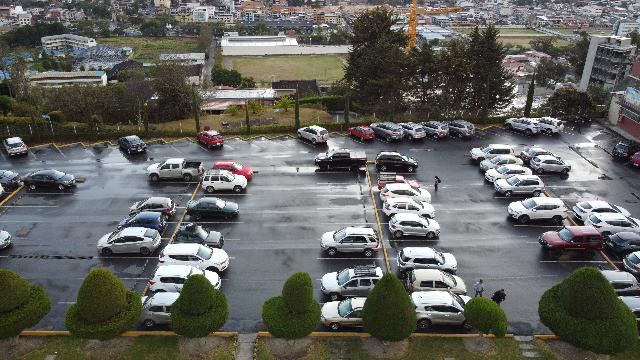Vehiculo: (409, 290, 473, 330), (321, 265, 384, 301), (538, 225, 604, 259), (149, 265, 221, 293), (159, 244, 229, 272), (397, 247, 457, 277), (320, 227, 380, 257), (97, 227, 161, 255), (508, 197, 568, 223), (406, 269, 466, 295), (138, 292, 180, 328), (321, 298, 367, 330), (584, 212, 640, 238), (146, 158, 204, 182), (172, 222, 225, 248), (572, 200, 632, 222), (388, 214, 440, 238), (315, 148, 367, 172), (186, 196, 240, 219), (382, 197, 436, 219), (494, 175, 544, 198), (129, 196, 177, 219), (598, 270, 640, 296), (23, 170, 76, 190), (118, 211, 166, 233), (381, 183, 432, 203), (201, 170, 247, 192), (374, 152, 418, 172), (484, 164, 532, 182), (604, 232, 640, 256), (617, 296, 639, 334), (470, 144, 516, 162), (480, 154, 524, 172), (214, 160, 252, 180), (520, 147, 562, 165), (530, 156, 570, 174), (504, 118, 542, 136), (370, 122, 404, 142), (444, 120, 476, 138), (297, 126, 329, 144), (611, 140, 639, 160), (2, 137, 28, 157), (118, 136, 146, 154), (196, 130, 224, 148), (422, 121, 450, 139), (400, 123, 426, 141), (538, 117, 564, 135), (622, 251, 640, 275), (348, 125, 374, 141), (0, 170, 20, 190), (0, 230, 12, 250), (630, 151, 640, 167), (0, 183, 4, 197)
